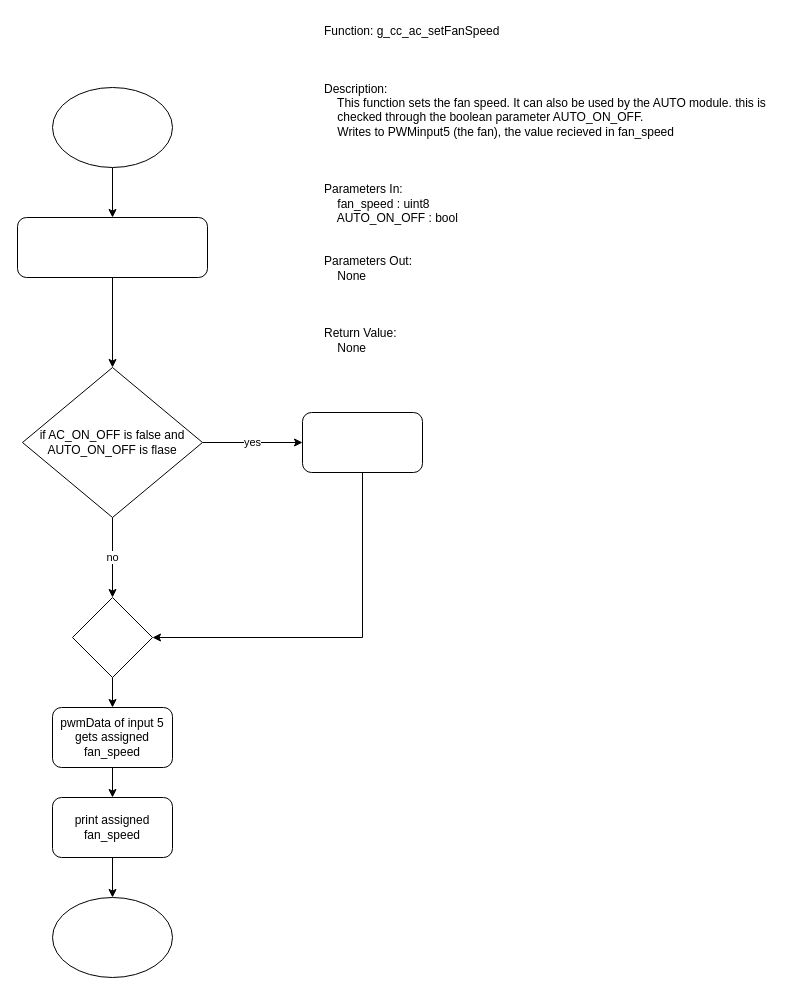
Image size: 790x995. Some labels were removed from this diagram. Each missing label, with the centre of its shape:
call g_cc_ac_setFanSpeed: point 112,247
fan_speed gets assigned FAN_OFF: point 362,442
